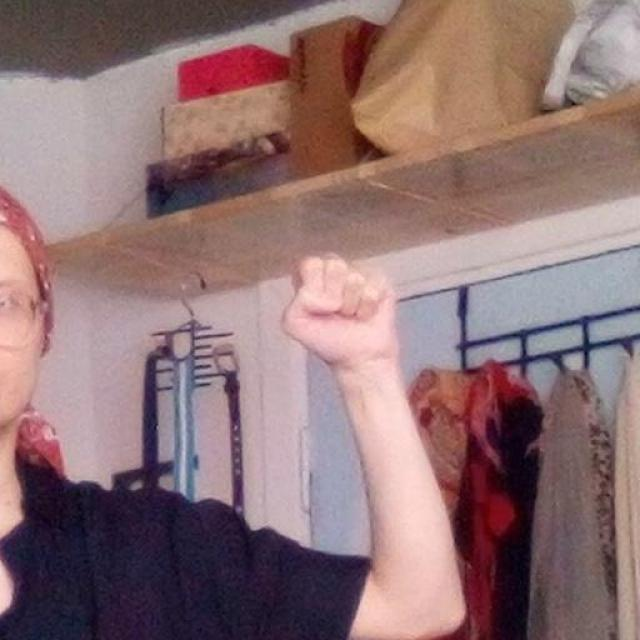hand: (279, 250, 400, 369)
